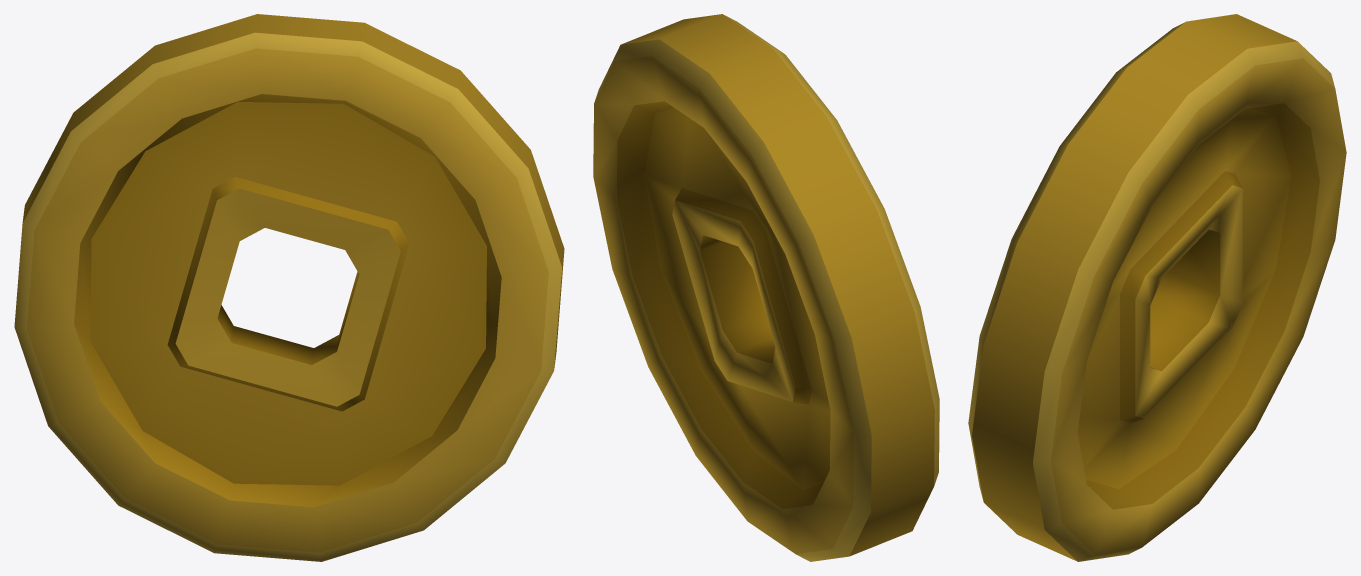
The model's file is ChineseCoin.fbx.
3 renders of one model, left to right at view 1: azimuth 30°, elevation 25°; view 2: azimuth 150°, elevation 25°; view 3: azimuth 270°, elevation 25°, orthographic. The views are drawn at different scales.
Visible parts, largest first — view 1: ChineseCoin; view 2: ChineseCoin; view 3: ChineseCoin.
Boxes of the visible parts, x1,y1,x2,y2 form: ChineseCoin: (14,14,564,561); ChineseCoin: (593,14,939,561); ChineseCoin: (968,14,1346,561).
Bounding box in the file's own units: 0.4173 × 0.4532 × 0.3033.
